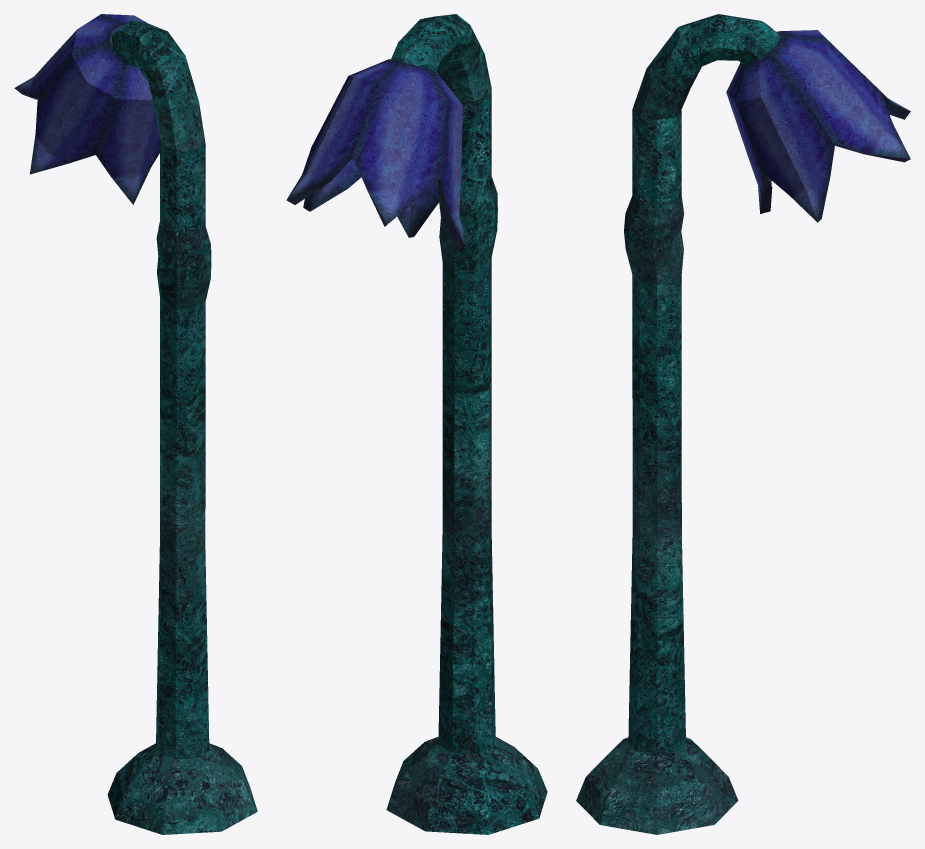
The model's file is LampTall.fbx.
The picture shows the model from 3 angles, left to right: view 1: azimuth 30°, elevation 25°; view 2: azimuth 150°, elevation 25°; view 3: azimuth 270°, elevation 25°; orthographic projection. The views are drawn at different scales.
Parts seen in each view (by area): view 1: Bell; view 2: Bell; view 3: Bell.
Boxes of the visible parts, left/top/right/bottom form: Bell: left=14, top=14, right=257, bottom=834; Bell: left=286, top=14, right=547, bottom=834; Bell: left=576, top=14, right=910, bottom=834.
Bounding box in the file's own units: 223 × 1056 × 408.
